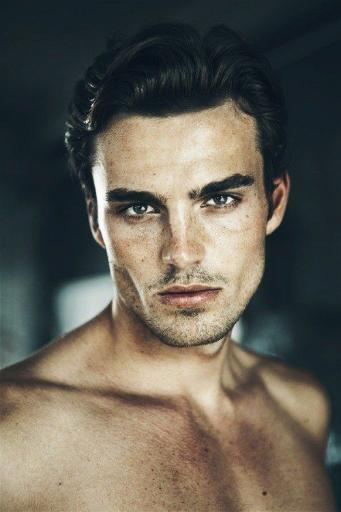left_eye: (200, 190, 246, 213)
left_lip_corner: (210, 283, 227, 301)
right_eye: (120, 200, 162, 221)
right_lip_corner: (153, 288, 167, 306)
